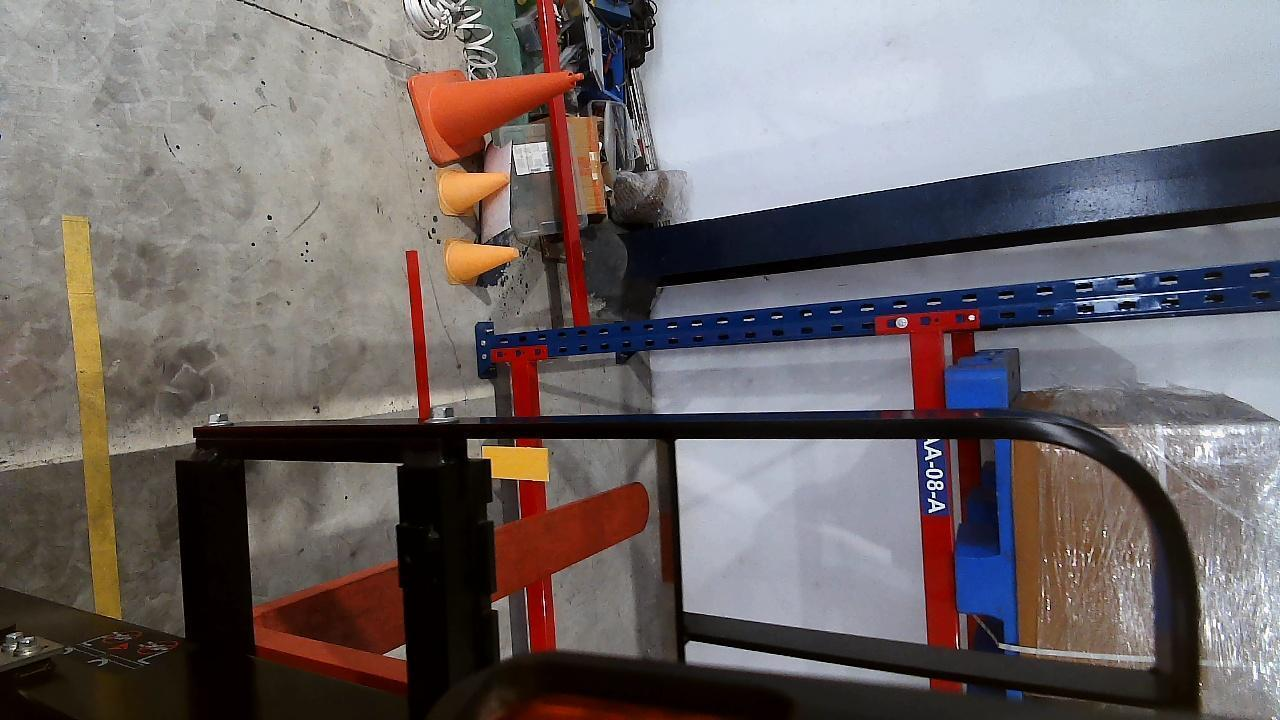red_line: (404, 250, 432, 420)
yellow_line: (58, 214, 120, 622)
